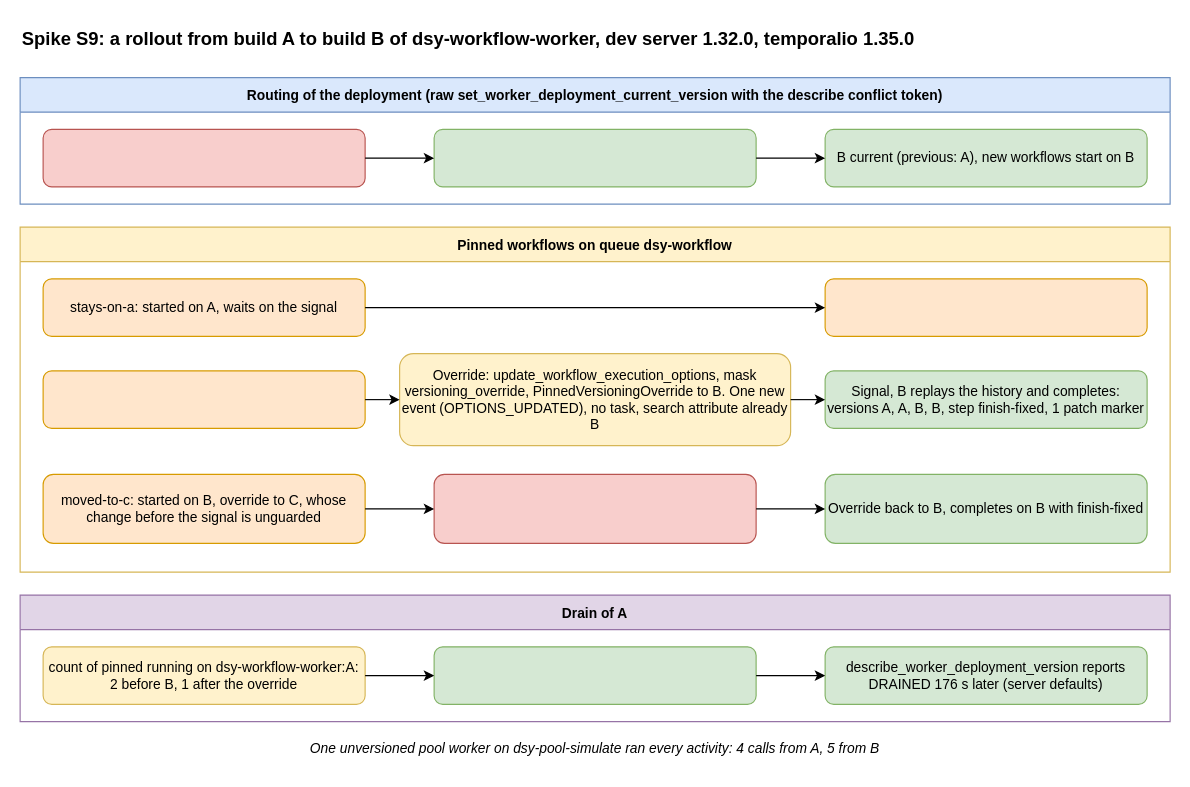
Image size: 1190x787. Some labels were removed from this diagram. Here are the shapes that lost their labels. From the top down, the centre of each, then its label:
At [203,157]: "No current version: a new workflow completes 0 tasks in 3 s".
At [594,157]: "A current (previous: none), the waiting workflow then completes 2 tasks".
At [985,307]: "Finishes on A while B is current: versions A, A, A, A, step finish-buggy".
At [203,399]: "moved-to-b: started on A, waits on the signal".
At [594,508]: "Task fails NON_DETERMINISTIC_ERROR (TMPRL1100), workflow stays RUNNING".
At [594,675]: "0 as soon as stays-on-a closes".
